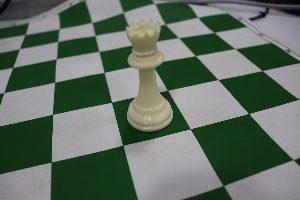white_queen: (111, 9, 175, 136)
